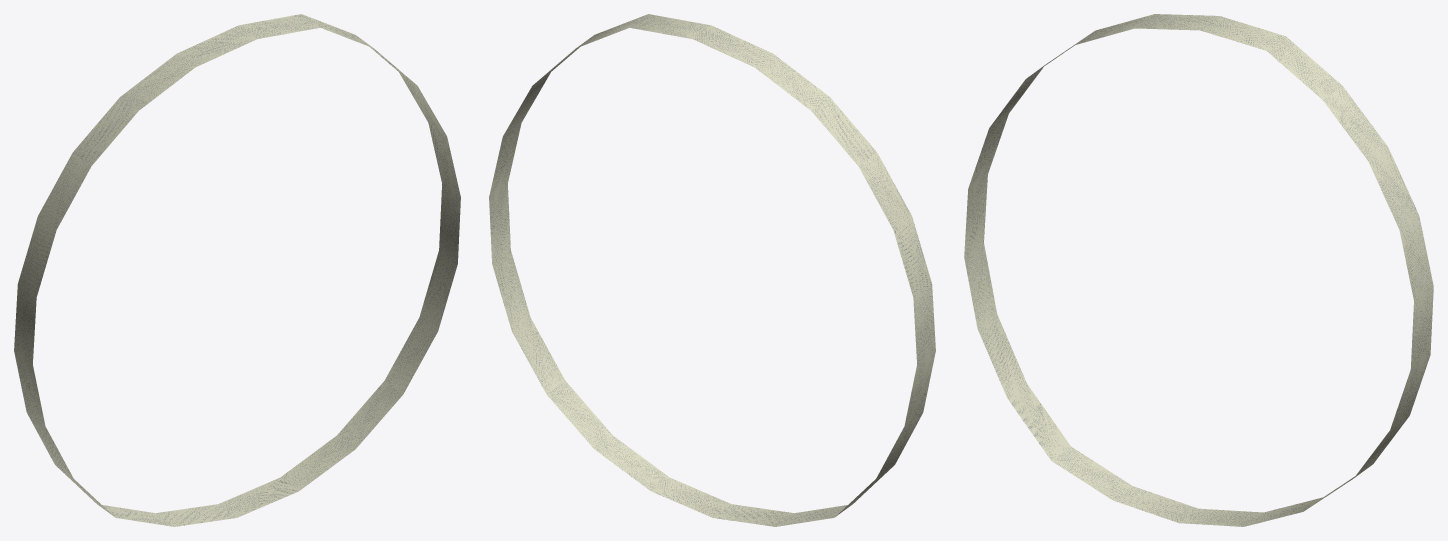
File: original-62.obj
3 renders of one model, left to right at view 1: azimuth 30°, elevation 25°; view 2: azimuth 150°, elevation 25°; view 3: azimuth 330°, elevation 25°, orthographic. The views are drawn at different scales.
Parts seen in each view (by area): view 1: 3dw.2c6493d31849c15a75f1efca97bee05a/Model/Sentry_Really_Big_Rem; view 2: 3dw.2c6493d31849c15a75f1efca97bee05a/Model/Sentry_Really_Big_Rem; view 3: 3dw.2c6493d31849c15a75f1efca97bee05a/Model/Sentry_Really_Big_Rem.
Part boxes in pixels (<box>): 3dw.2c6493d31849c15a75f1efca97bee05a/Model/Sentry_Really_Big_Rem: <box>14,14,460,526</box>; 3dw.2c6493d31849c15a75f1efca97bee05a/Model/Sentry_Really_Big_Rem: <box>489,14,935,526</box>; 3dw.2c6493d31849c15a75f1efca97bee05a/Model/Sentry_Really_Big_Rem: <box>964,14,1433,526</box>.
Size of the model in its own units: 0.1347 by 0.1424 by 0.0103.
